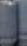cylinder: (1, 1, 27, 46)
